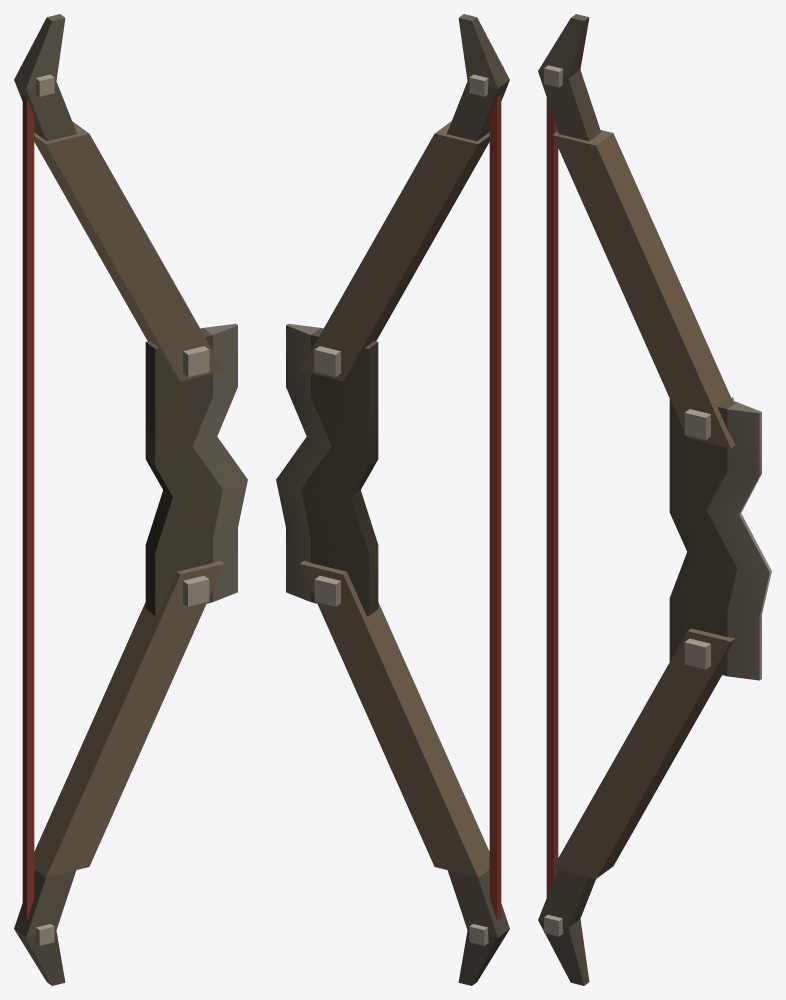
File: SF_Wep_Goblin_Bow_01.fbx
3 views of the same model, side by side, from view 1: azimuth 30°, elevation 25°; view 2: azimuth 150°, elevation 25°; view 3: azimuth 330°, elevation 25° (orthographic).
Parts seen in each view (by area): view 1: SF_Wep_Goblin_Bow_01; view 2: SF_Wep_Goblin_Bow_01; view 3: SF_Wep_Goblin_Bow_01.
Boxes of the visible parts, left/top/right/bottom form: SF_Wep_Goblin_Bow_01: left=14, top=14, right=247, bottom=985; SF_Wep_Goblin_Bow_01: left=276, top=14, right=509, bottom=985; SF_Wep_Goblin_Bow_01: left=538, top=14, right=771, bottom=985.
Bounding box in the file's own units: 0.6956 × 2.83 × 0.1466.
